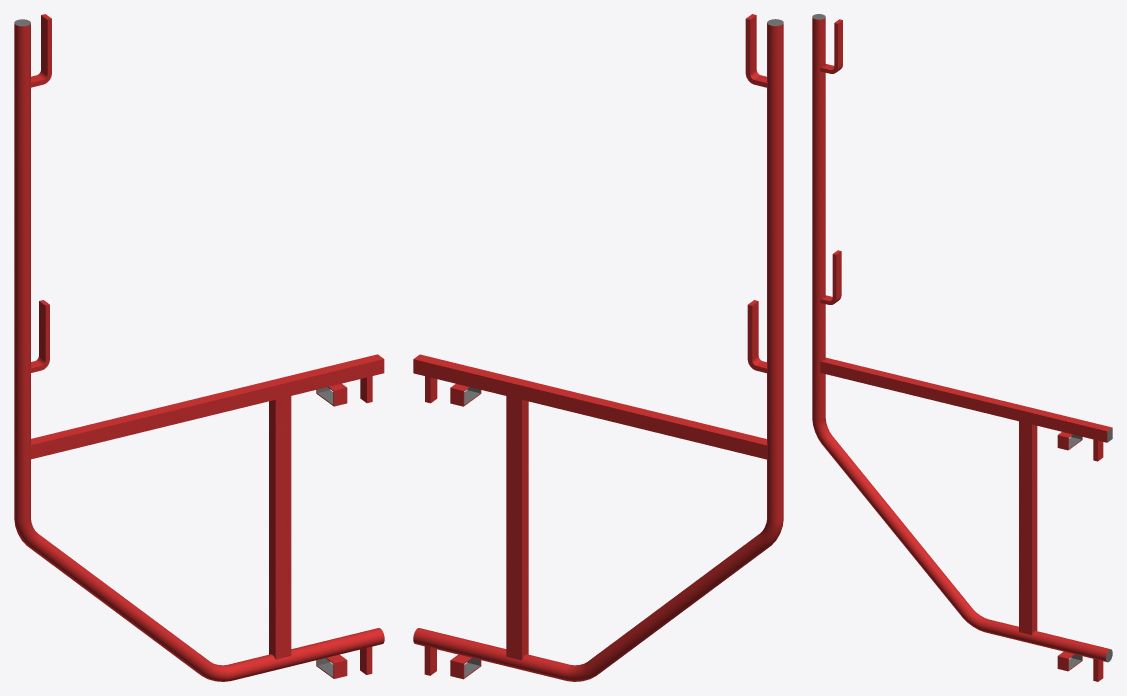
The model's file is Scaffold-bracket.glb.
3 renders of one model, left to right at view 1: azimuth 30°, elevation 25°; view 2: azimuth 150°, elevation 25°; view 3: azimuth 330°, elevation 25°, orthographic. The views are drawn at different scales.
Visible parts, largest first — view 1: Scaffold_Bracket_2; view 2: Scaffold_Bracket_2; view 3: Scaffold_Bracket_2.
Part boxes in pixels (bbox=[...]): Scaffold_Bracket_2: bbox=[14, 14, 384, 681]; Scaffold_Bracket_2: bbox=[413, 14, 783, 681]; Scaffold_Bracket_2: bbox=[812, 14, 1112, 681].
Bounding box in the file's own units: 0.8108 × 1.55 × 0.0676.
1 material, 1 textured.
